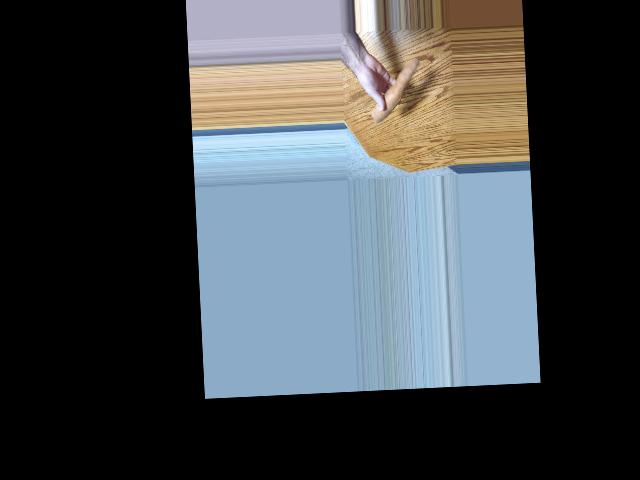sweet_potato: (367, 58, 419, 117)
